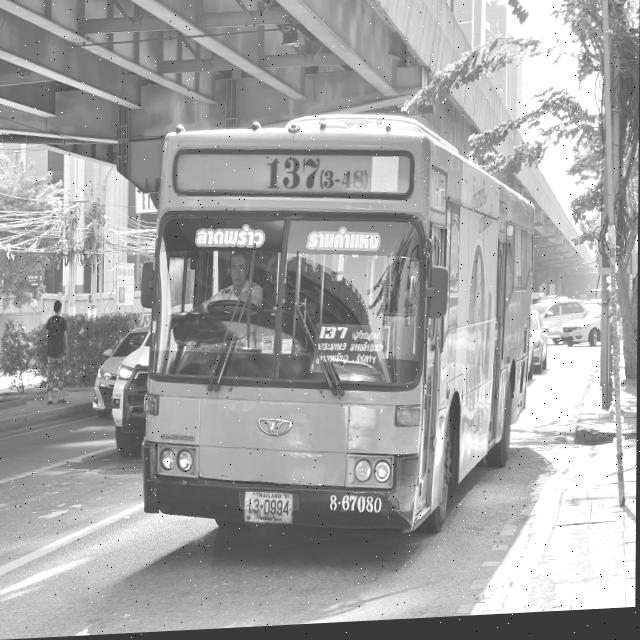BMTA-bus: (136, 110, 538, 552)
Bus-Line-Number: (262, 149, 371, 208)
Destination-Sign-Normal: (313, 323, 388, 382)
